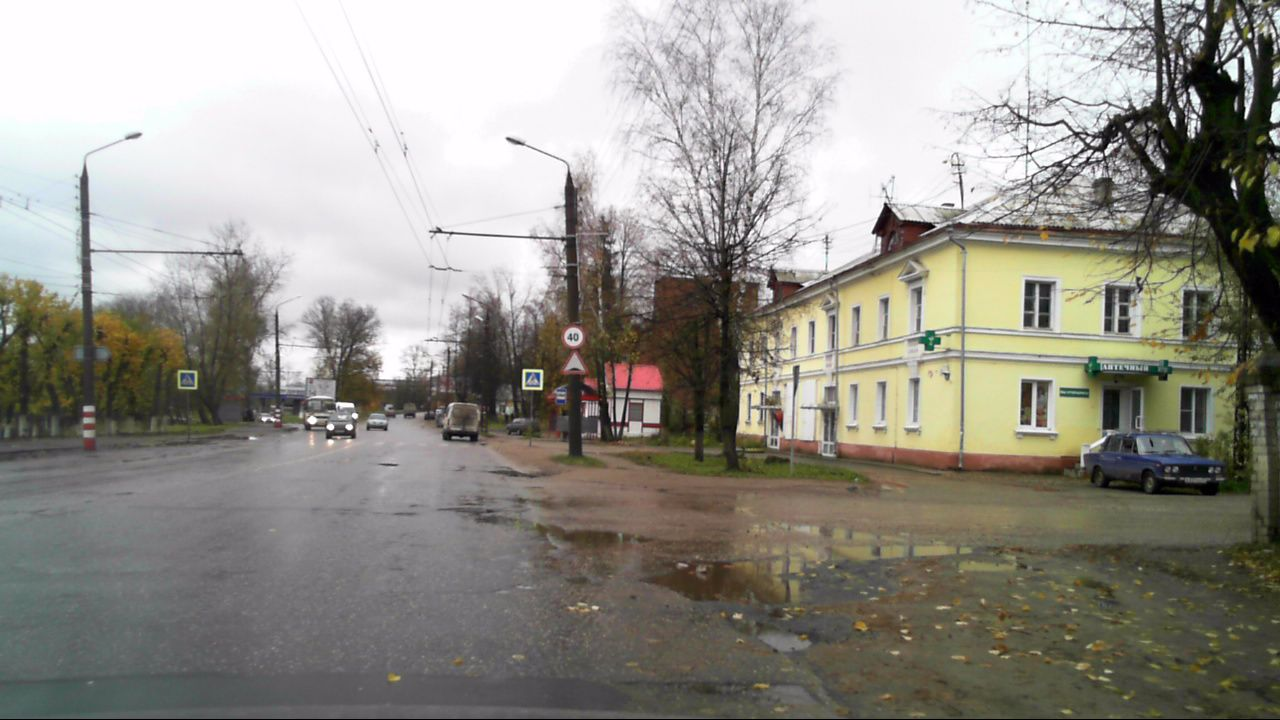speed_warning_40: (561, 323, 586, 349)
